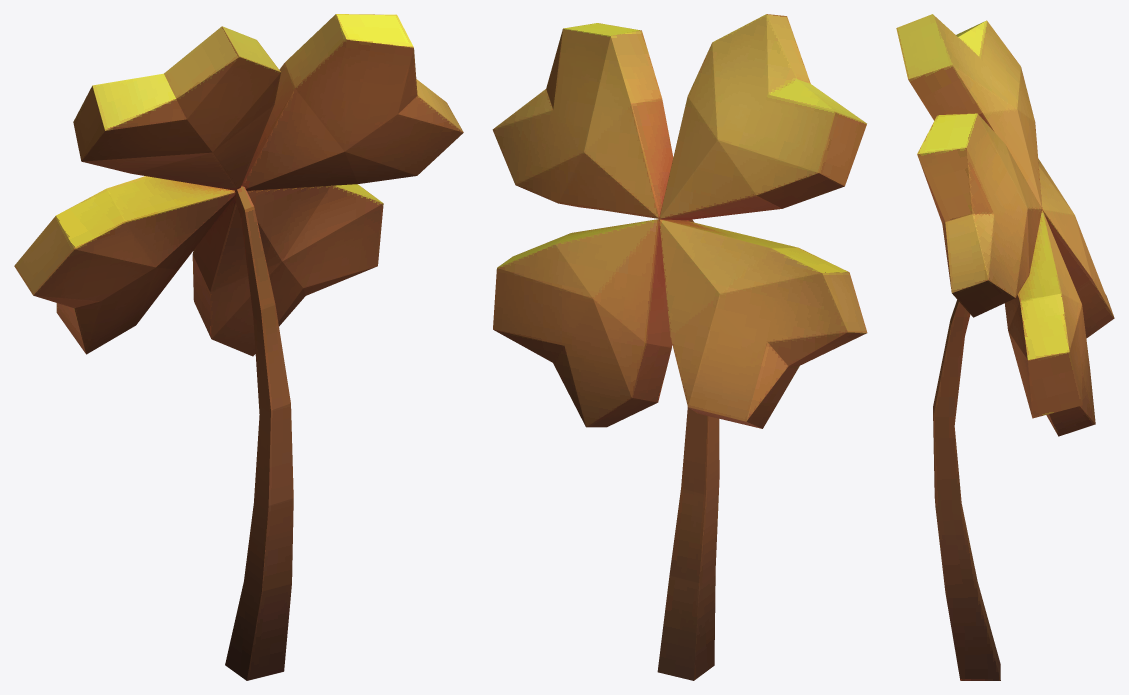
Rendered from item_four_leaf_clover_gold.glb.
3 renders of one model, left to right at view 1: azimuth 30°, elevation 25°; view 2: azimuth 150°, elevation 25°; view 3: azimuth 270°, elevation 25°, orthographic. The views are drawn at different scales.
Parts seen in each view (by area): view 1: FourLeafClover; view 2: FourLeafClover; view 3: FourLeafClover.
Part boxes in pixels (bbox=[...]): FourLeafClover: bbox=[14, 14, 463, 680]; FourLeafClover: bbox=[492, 14, 867, 680]; FourLeafClover: bbox=[896, 14, 1114, 680].
Bounding box in the file's own units: 0.3023 × 0.4858 × 0.1521.
Materials: 1 (1 with a texture image).
